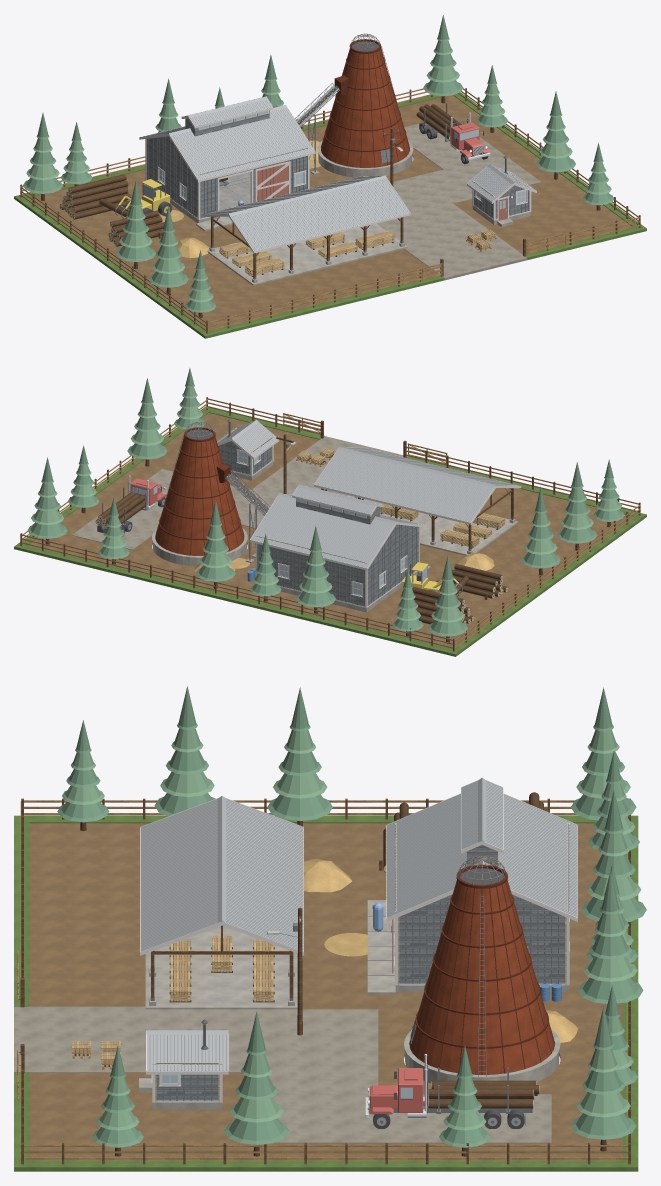
The model's file is building_assembled.glb.
3 views of the same model, one above another, from view 1: azimuth 30°, elevation 25°; view 2: azimuth 150°, elevation 25°; view 3: azimuth 270°, elevation 25° (orthographic). The views are drawn at different scales.
Visible parts, largest first — view 1: geometry_274, geometry_275, geometry_286, geometry_120, geometry_289, geometry_276, geometry_281, geometry_283, geometry_290, geometry_318, geometry_121, geometry_280 (+32 smaller); view 2: geometry_274, geometry_286, geometry_276, geometry_120, geometry_289, geometry_281, geometry_275, geometry_290, geometry_283, geometry_280, geometry_121, geometry_321 (+39 smaller); view 3: geometry_274, geometry_275, geometry_286, geometry_289, geometry_120, geometry_276, geometry_281, geometry_283, geometry_290, geometry_244, geometry_280, geometry_391 (+40 smaller).
Boxes of the visible parts, x1,y1,x2,y2 form: geometry_274: (28,95,631,329); geometry_275: (377,116,540,280); geometry_286: (206,175,409,250); geometry_120: (143,96,314,179); geometry_289: (321,43,409,167); geometry_276: (14,92,646,338); geometry_281: (20,88,640,331); geometry_283: (207,223,407,285); geometry_290: (321,39,409,167); geometry_318: (60,174,131,219); geometry_121: (139,97,315,219); geometry_280: (20,88,640,333); geometry_274: (28,413,632,648); geometry_286: (314,447,519,522); geometry_276: (14,406,646,656); geometry_120: (250,484,422,568); geometry_289: (155,429,244,555); geometry_281: (22,398,640,649); geometry_275: (72,436,406,550); geometry_290: (155,427,244,555); geometry_283: (347,495,518,555); geometry_280: (20,397,640,651); geometry_121: (249,485,425,608); geometry_321: (451,564,507,598); geometry_274: (29,823,622,1160); geometry_275: (14,1006,551,1143); geometry_286: (140,796,303,951); geometry_289: (409,868,554,1074); geometry_120: (386,777,577,917); geometry_276: (14,815,638,1171); geometry_281: (16,800,628,1159); geometry_283: (145,926,297,1009); geometry_290: (409,864,555,1074); geometry_244: (146,1030,228,1070); geometry_280: (20,798,630,1164); geometry_391: (224,1011,289,1144).
Bounding box in the file's own units: 48.2 × 13.01 × 36.5.
43 materials, 17 textured.
